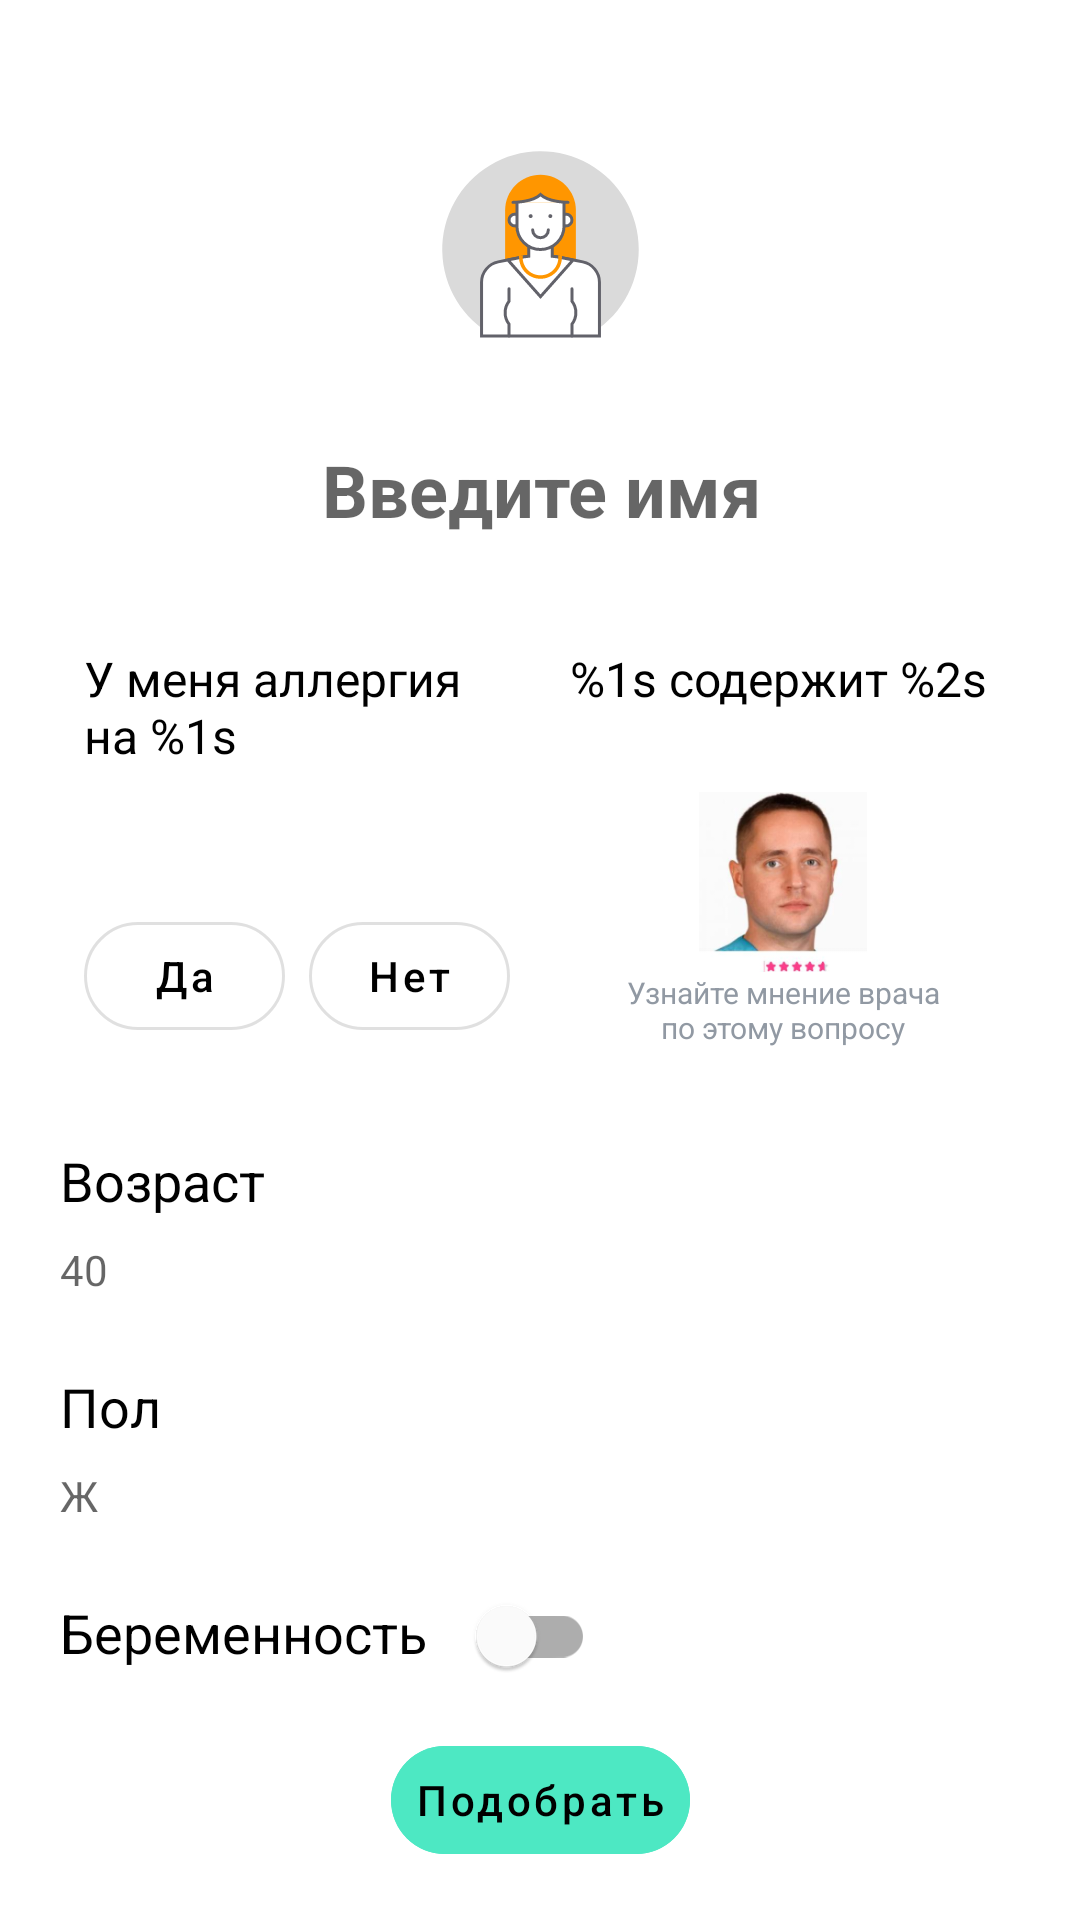

Where to tap for icons on this 1080 × 1920 app screen, as point (x, y):
profile: point (540, 244)
